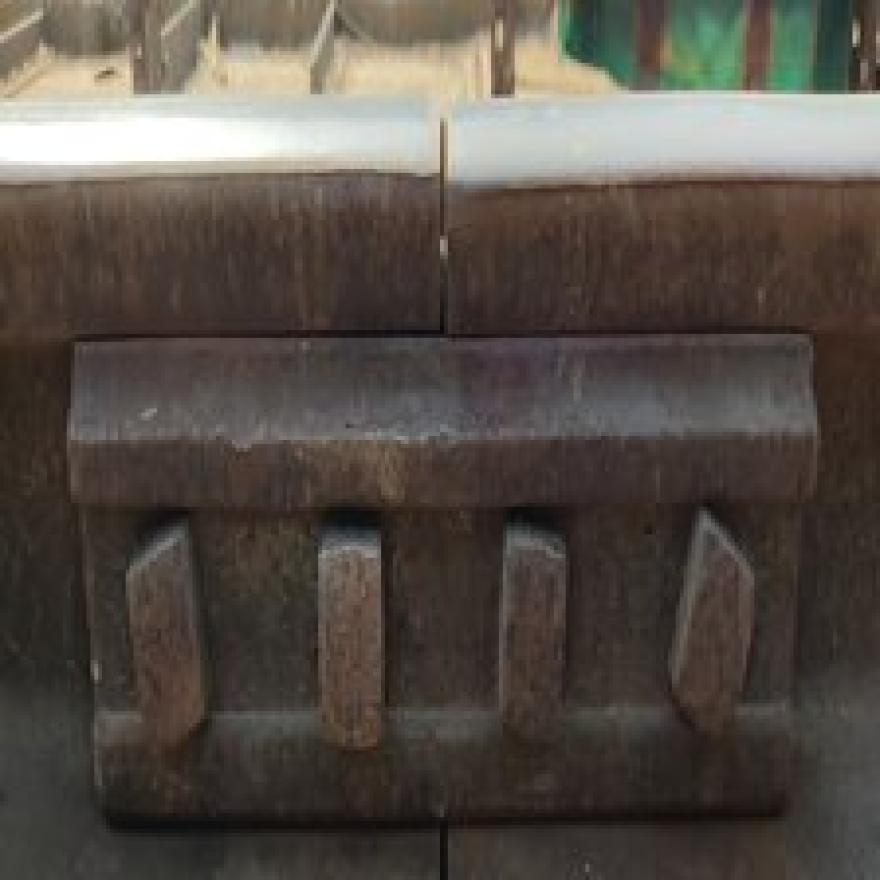railway-gap: (241, 31, 645, 391)
